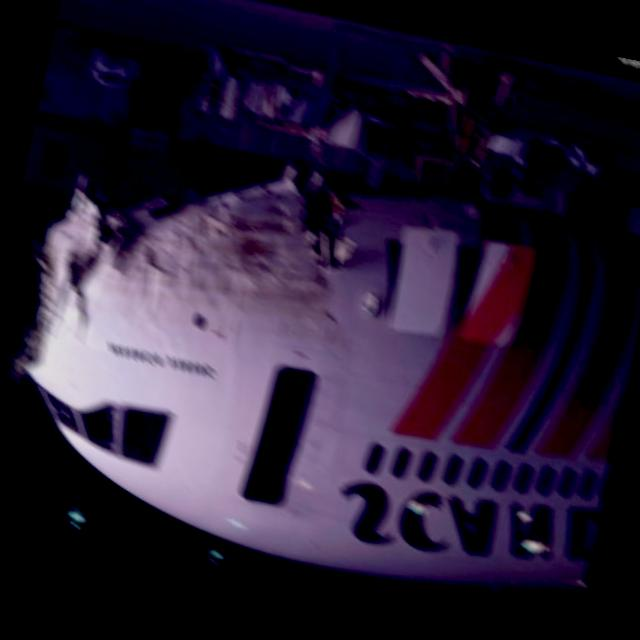crack: (14, 174, 129, 389), (270, 162, 372, 278)
dent: (120, 160, 315, 348)
